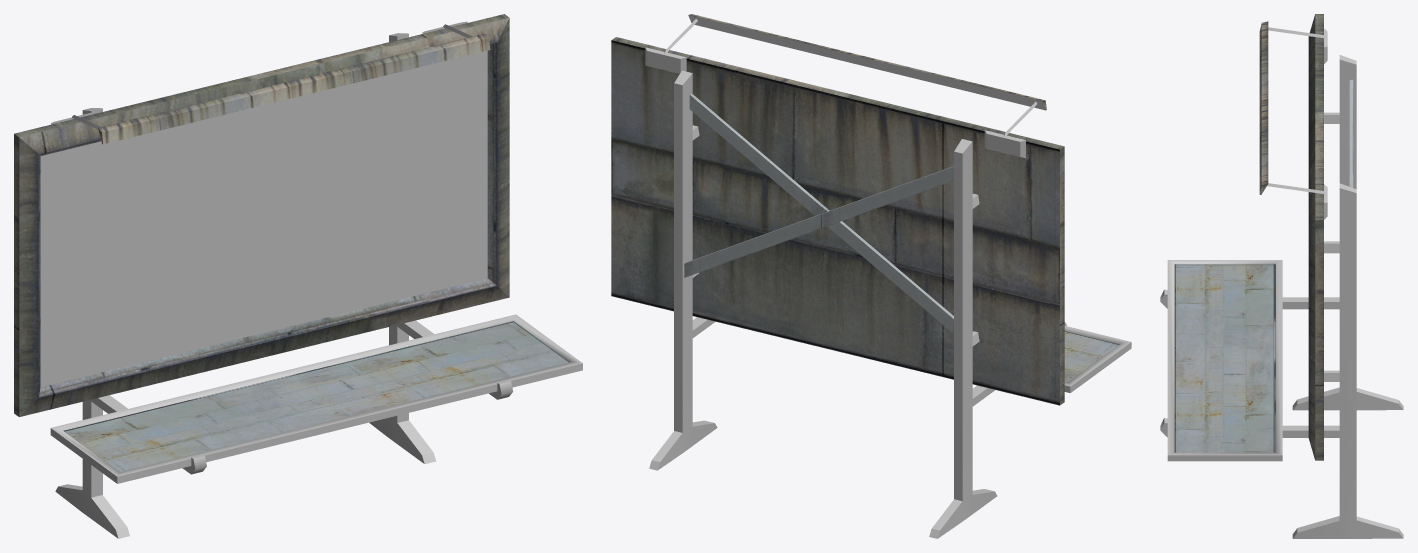
The model's file is Model_BillBoard_04.fbx.
The picture shows the model from 3 angles, left to right: view 1: azimuth 30°, elevation 25°; view 2: azimuth 150°, elevation 25°; view 3: azimuth 270°, elevation 25°; orthographic projection. The views are drawn at different scales.
Parts seen in each view (by area): view 1: billboard3; view 2: billboard3; view 3: billboard3.
Part boxes in pixels (x1,y1,x2,y2): billboard3: (14,14,582,538); billboard3: (611,14,1131,538); billboard3: (1160,14,1403,538).
Size of the model in its own units: 669 by 560 by 334.
